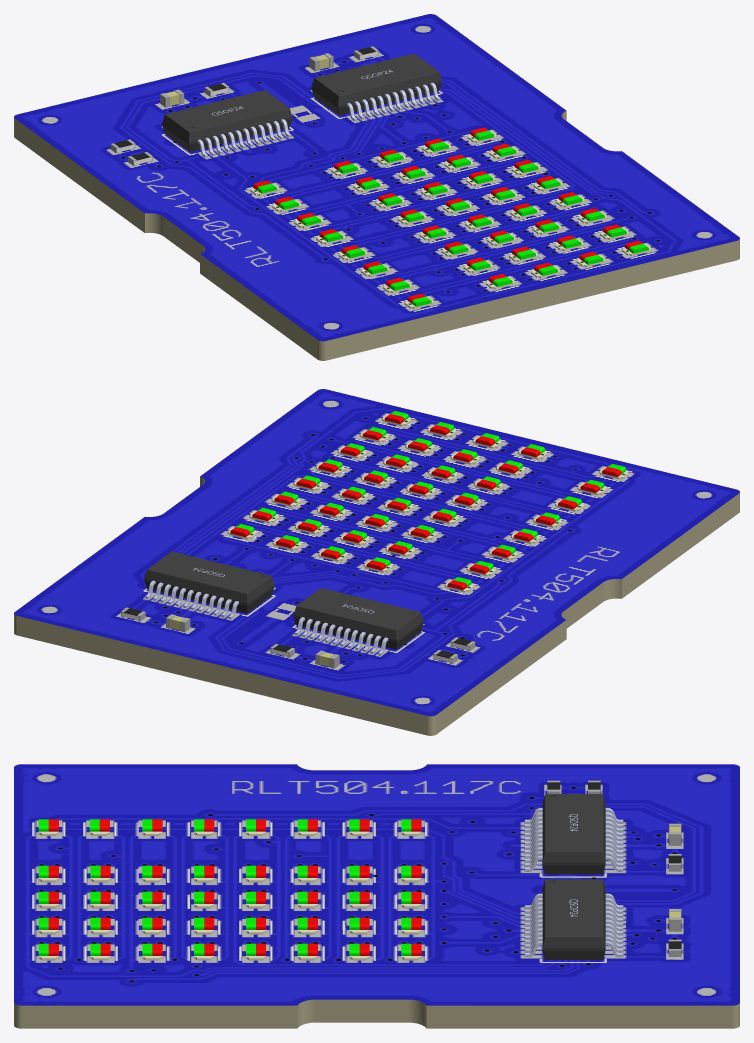
File: indicator.glb
The picture shows the model from 3 angles, top to bottom: view 1: azimuth 30°, elevation 25°; view 2: azimuth 150°, elevation 25°; view 3: azimuth 270°, elevation 25°; orthographic projection. The views are drawn at different scales.
Parts seen in each view (by area): view 1: board, object 10, object 3, object 2, object 4, object 9; view 2: board, object 10, object 4, object 2, object 3, object 9; view 3: board, object 10, object 3, object 4, object 9, object 2, object 11, object 13.
Boxes of the visible parts, x1,y1,x2,y2 form: board: [14, 14, 739, 360]; object 10: [162, 53, 441, 151]; object 3: [257, 130, 648, 306]; object 2: [250, 130, 651, 308]; object 4: [253, 127, 642, 303]; object 9: [197, 70, 440, 157]; board: [14, 389, 739, 735]; object 10: [144, 551, 423, 649]; object 4: [230, 414, 621, 590]; object 2: [227, 414, 628, 592]; object 3: [236, 411, 625, 586]; object 9: [145, 567, 388, 655]; board: [14, 764, 739, 1028]; object 10: [542, 794, 605, 959]; object 3: [38, 819, 411, 955]; object 4: [48, 819, 421, 955]; object 9: [524, 808, 623, 957]; object 2: [38, 831, 421, 960]; object 11: [547, 780, 681, 956]; object 13: [547, 782, 681, 948].
Size of the model in its own units: 0.0353 by 0.00327 by 0.0448.
Materials: 15 (2 with a texture image).
